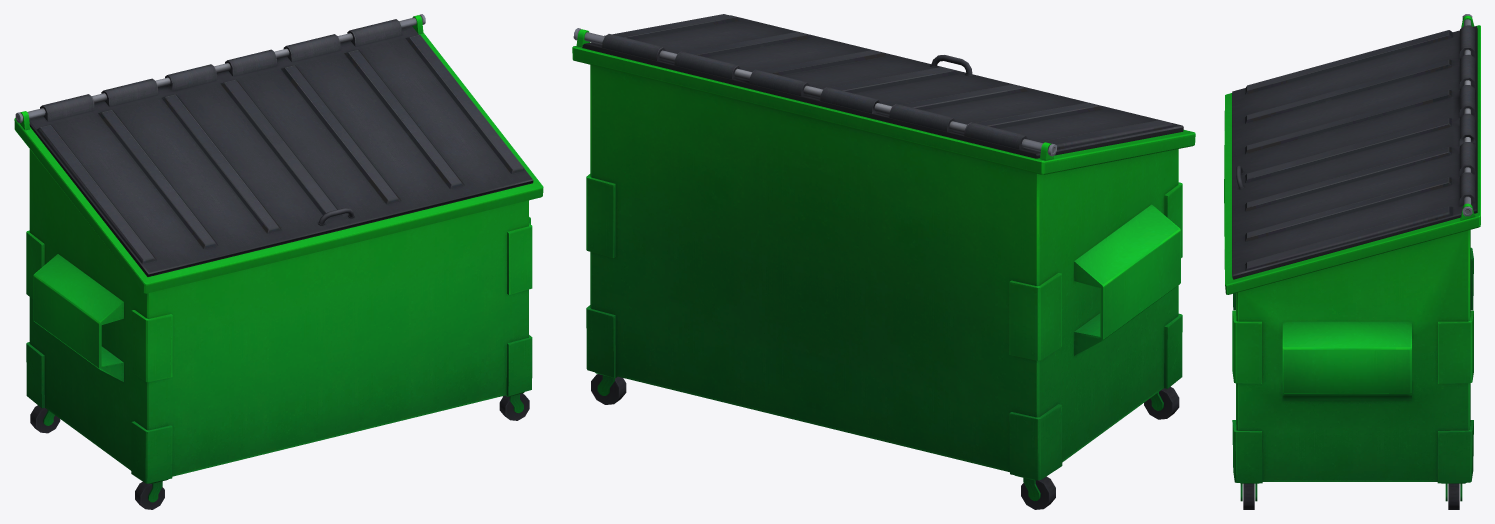
Rendered from Dumpster.fbx.
3 views of the same model, side by side, from view 1: azimuth 30°, elevation 25°; view 2: azimuth 150°, elevation 25°; view 3: azimuth 270°, elevation 25° (orthographic). The views are drawn at different scales.
Visible parts, largest first — view 1: Container, Lid_And_Hinge, Wheel_Left_Front, Wheel_Right_Front, Wheel_Left_Back; view 2: Container, Lid_And_Hinge, Wheel_Left_Back, Wheel_Right_Back, Wheel_Left_Front; view 3: Container, Lid_And_Hinge, Wheel_Right_Front, Wheel_Right_Back.
Boxes of the visible parts, <box> form: Container: <box>14,15,543,483</box>; Lid_And_Hinge: <box>15,14,533,276</box>; Wheel_Left_Front: <box>135,481,164,509</box>; Wheel_Right_Front: <box>499,393,529,420</box>; Wheel_Left_Back: <box>30,405,60,433</box>; Container: <box>572,29,1195,480</box>; Lid_And_Hinge: <box>573,14,1183,158</box>; Wheel_Left_Back: <box>1021,476,1055,509</box>; Wheel_Right_Back: <box>591,374,626,404</box>; Wheel_Left_Front: <box>1144,386,1179,419</box>; Container: <box>1224,15,1480,483</box>; Lid_And_Hinge: <box>1232,14,1477,279</box>; Wheel_Right_Front: <box>1240,483,1257,509</box>; Wheel_Right_Back: <box>1445,483,1462,509</box>.
Size of the model in its own units: 2.16 by 1.52 by 1.13.
